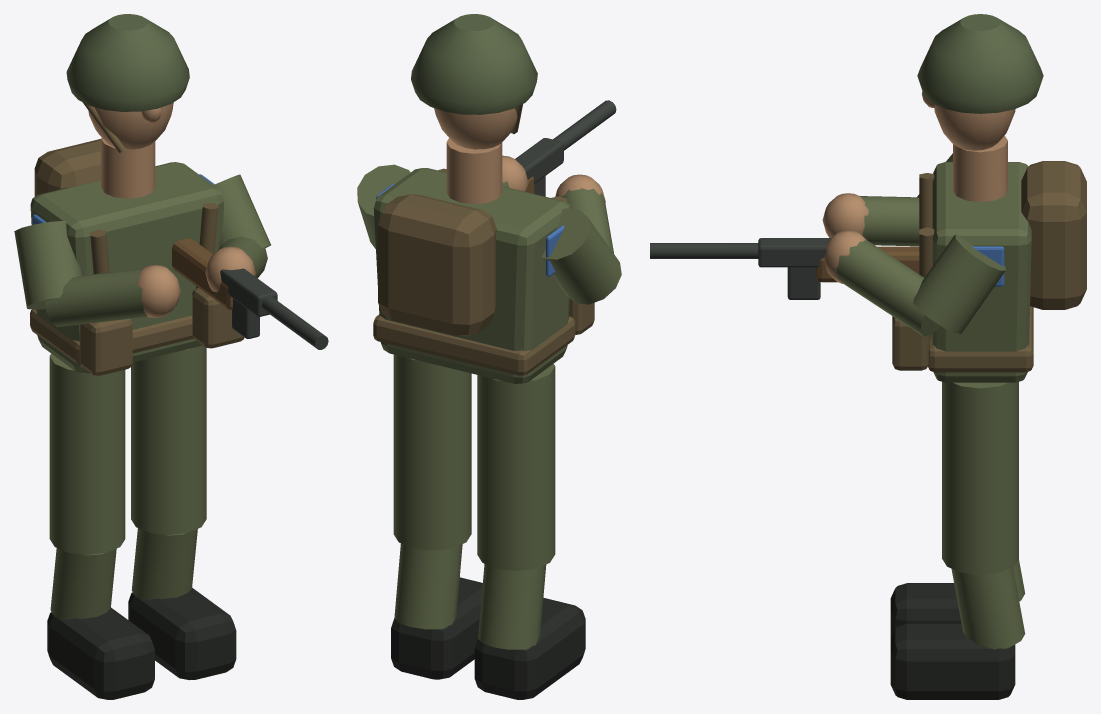
The model's file is infantry.glb.
The picture shows the model from 3 angles, left to right: view 1: azimuth 30°, elevation 25°; view 2: azimuth 150°, elevation 25°; view 3: azimuth 270°, elevation 25°; orthographic projection. The views are drawn at different scales.
Parts seen in each view (by area): view 1: Uniform, Tracks, Canvas, Armor, Skin, Steel, Timber; view 2: Uniform, Canvas, Tracks, Armor, Skin, Steel, TeamColor; view 3: Uniform, Canvas, Tracks, Armor, Skin, Steel, Timber.
Boxes of the visible parts, left/top/right/bottom form: Uniform: left=14, top=162, right=270, bottom=619; Tracks: left=47, top=587, right=236, bottom=699; Canvas: left=30, top=102, right=244, bottom=375; Armor: left=66, top=14, right=189, bottom=111; Skin: left=88, top=102, right=255, bottom=317; Steel: left=220, top=268, right=328, bottom=349; Timber: left=172, top=238, right=232, bottom=309; Uniform: left=357, top=164, right=621, bottom=649; Canvas: left=373, top=104, right=594, bottom=375; Tracks: left=391, top=577, right=585, bottom=699; Armor: left=411, top=14, right=537, bottom=114; Skin: left=434, top=108, right=605, bottom=204; Steel: left=515, top=100, right=616, bottom=196; TeamColor: left=376, top=184, right=564, bottom=276; Uniform: left=836, top=153, right=1031, bottom=649; Canvas: left=892, top=161, right=1086, bottom=372; Tracks: left=890, top=583, right=1015, bottom=699; Armor: left=917, top=14, right=1043, bottom=113; Skin: left=822, top=91, right=1015, bottom=283; Steel: left=650, top=238, right=830, bottom=299; Timber: left=816, top=246, right=919, bottom=282.
Size of the model in its own units: 0.7649 by 1.95 by 1.19.
